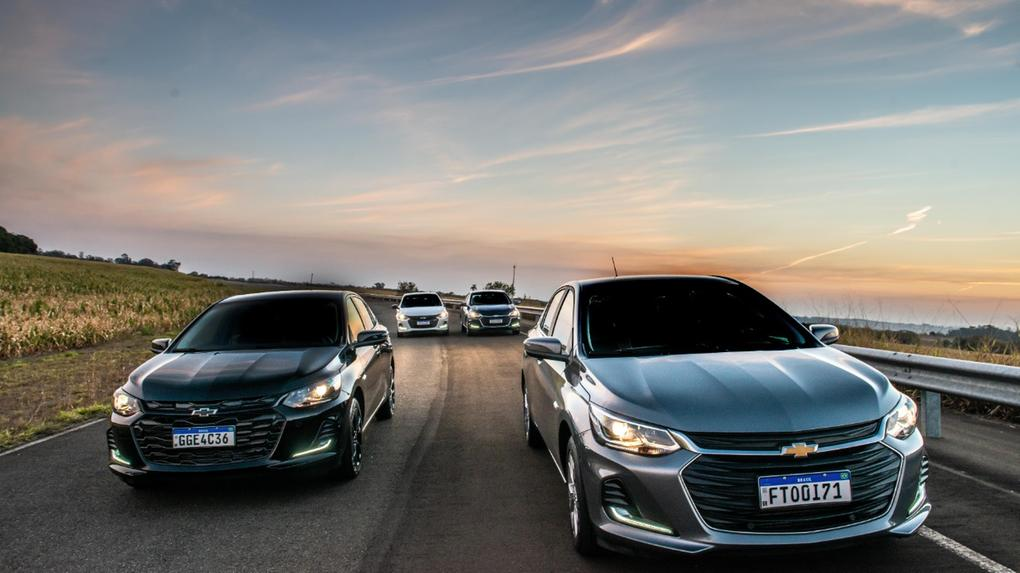car: (512, 273, 929, 558), (107, 268, 397, 489), (460, 288, 522, 336), (387, 293, 453, 335)
car_plate: (756, 467, 857, 511), (173, 422, 240, 453)
